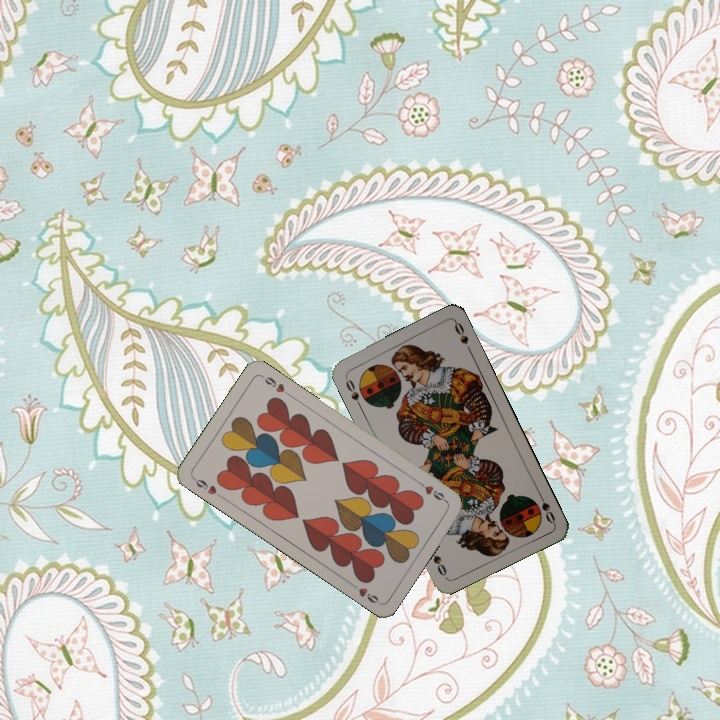H9: (189, 473, 225, 501), (414, 477, 449, 505)
SO: (534, 488, 558, 526), (341, 372, 364, 410)
